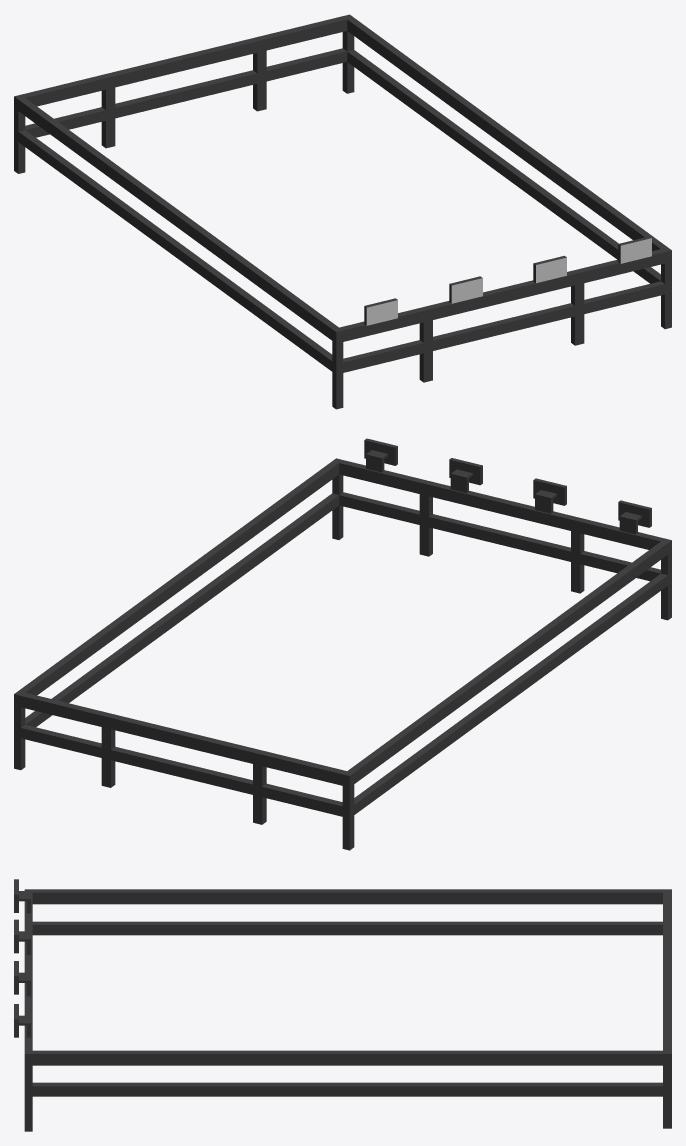
Rendered from spoiler1.glb.
3 renders of one model, top to bottom at view 1: azimuth 30°, elevation 25°; view 2: azimuth 150°, elevation 25°; view 3: azimuth 270°, elevation 25°, orthographic.
Visible parts, largest first — view 1: spoiler1; view 2: spoiler1; view 3: spoiler1.
Part boxes in pixels (x1=…): spoiler1: x1=14, y1=14, x2=671, y2=409; spoiler1: x1=14, y1=438, x2=671, y2=850; spoiler1: x1=14, y1=879, x2=671, y2=1131.
Size of the model in its own units: 2.4 by 0.6884 by 4.05.
1 material, 1 textured.
